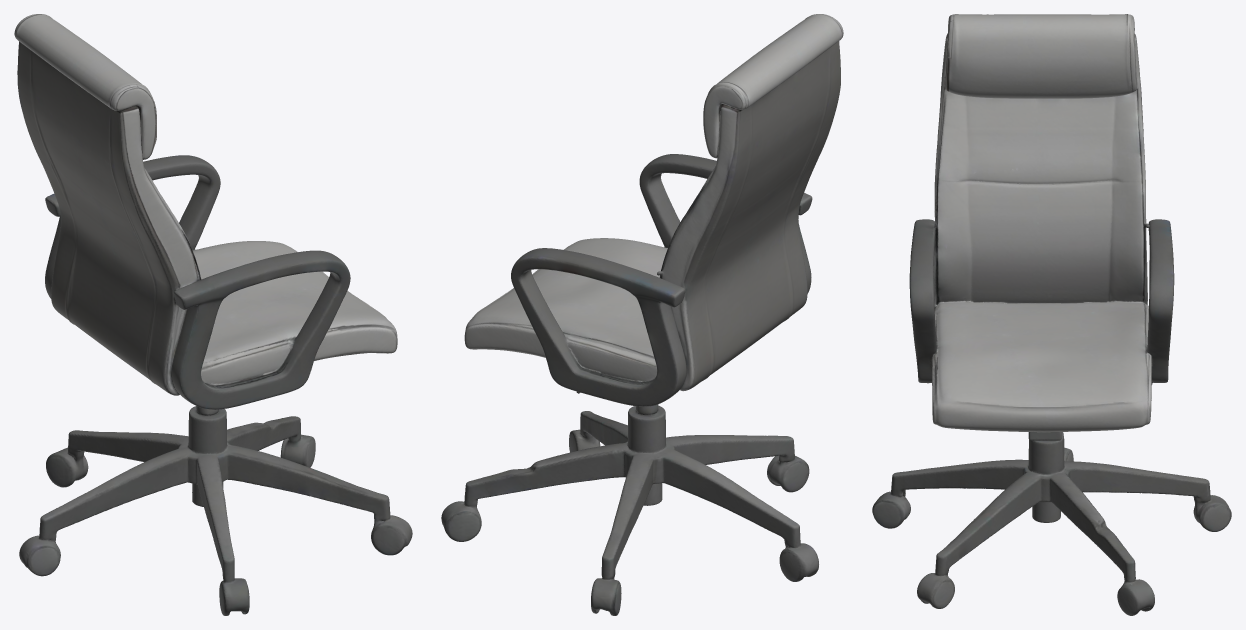
File: modern_office_chair_padded_13.glb
3 renders of one model, left to right at view 1: azimuth 30°, elevation 25°; view 2: azimuth 150°, elevation 25°; view 3: azimuth 270°, elevation 25°, orthographic. The views are drawn at different scales.
Parts seen in each view (by area): view 1: tripo_node_fa06becc-910a-4b88-9c68-fe92293cc481; view 2: tripo_node_fa06becc-910a-4b88-9c68-fe92293cc481; view 3: tripo_node_fa06becc-910a-4b88-9c68-fe92293cc481.
Boxes of the visible parts, bbox=[...] form: tripo_node_fa06becc-910a-4b88-9c68-fe92293cc481: bbox=[14, 14, 412, 615]; tripo_node_fa06becc-910a-4b88-9c68-fe92293cc481: bbox=[441, 14, 843, 615]; tripo_node_fa06becc-910a-4b88-9c68-fe92293cc481: bbox=[872, 14, 1231, 615].
Size of the model in its own units: 0.6748 by 1 by 0.683.
Materials: 1 (1 with a texture image).
